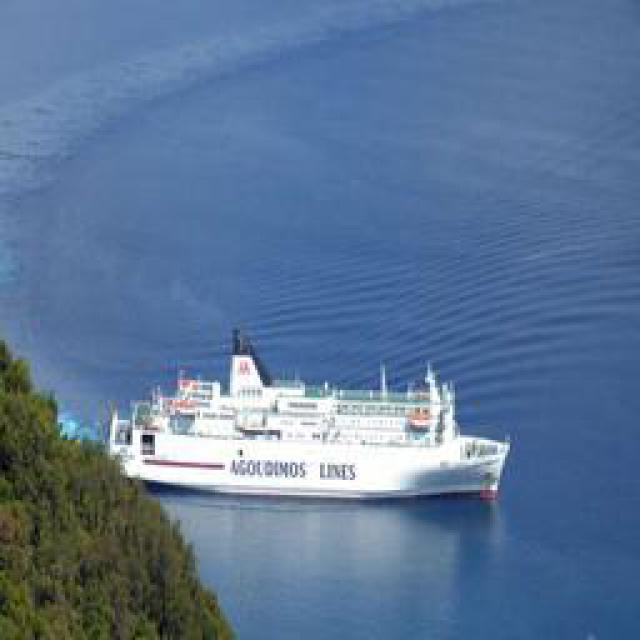Ship: (115, 326, 515, 506)
